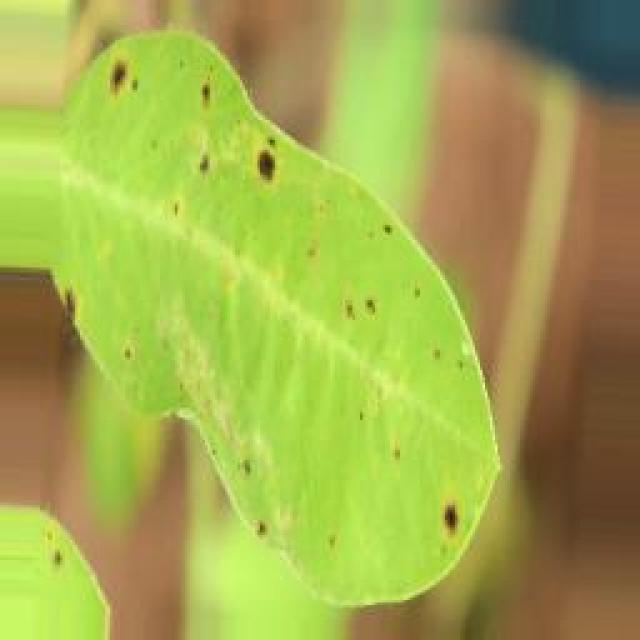Early_leaf_spot: (346, 194, 436, 285), (89, 37, 163, 138), (235, 110, 312, 203), (207, 428, 274, 530), (31, 266, 110, 337), (298, 218, 357, 307), (176, 68, 242, 137), (426, 479, 477, 568), (178, 120, 238, 192), (324, 272, 389, 332), (394, 272, 451, 334), (396, 340, 448, 374)
